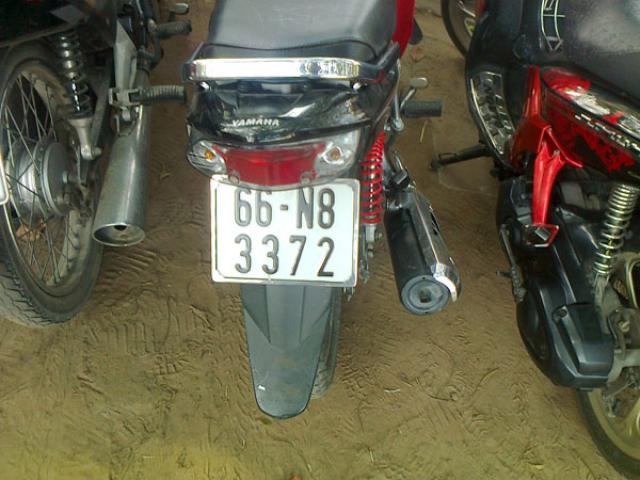plate: (214, 177, 356, 283)
